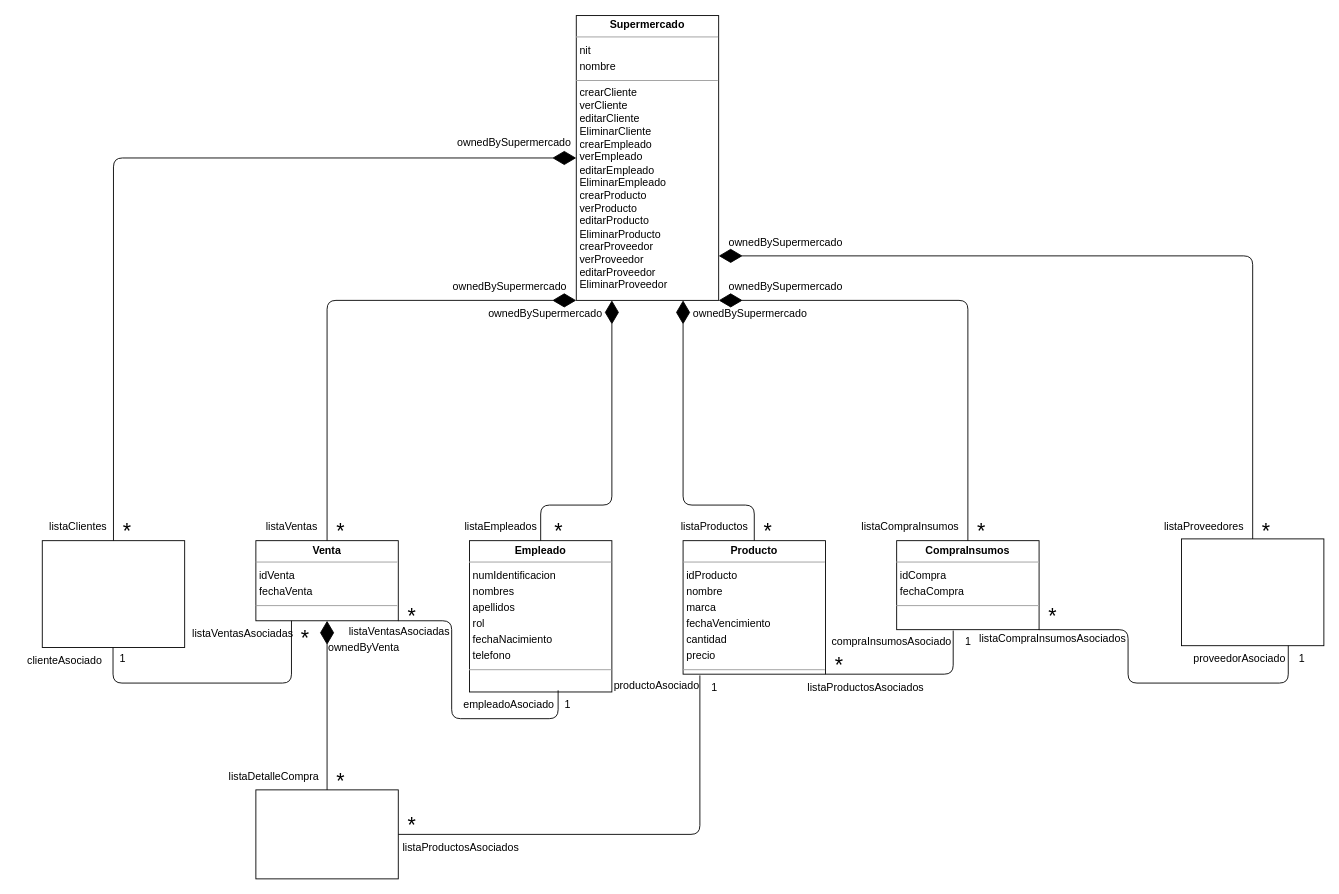
Some shapes in this 1339 by 894 pixel diagram are drawn without their labels. Here are the shapes that lost their labels. From the top down, the centre of each, then its label:
At [113,593]: "Cliente numIdentificacion tipoIdentificacion nombres apellidos".
At [1252,592]: "Proveedor numIdentificacion nombre telefono".
At [326,834]: "DetalleCompra idDetalle cantidad".
